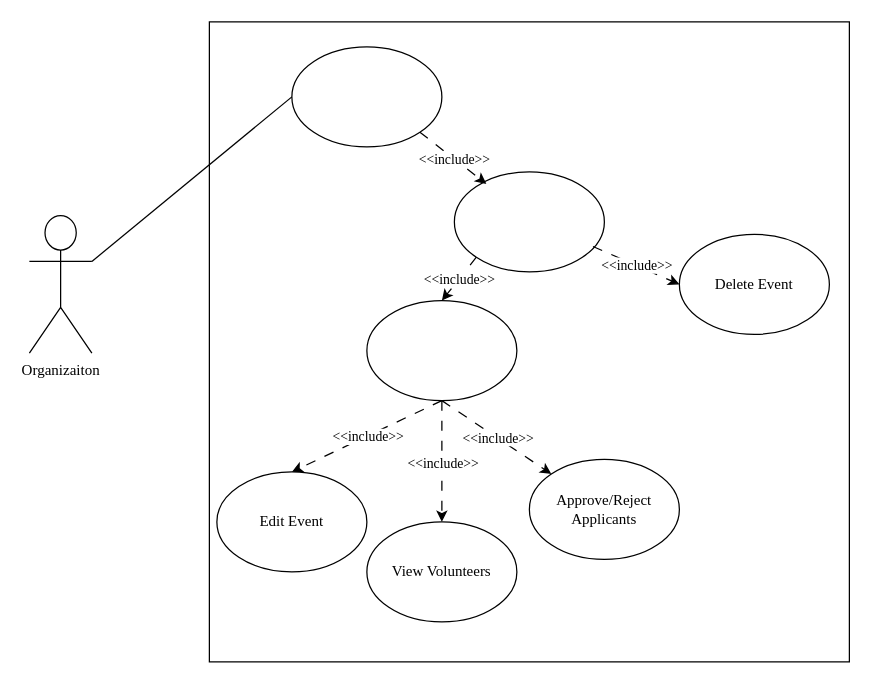
The diagram is 871 pixels wide and 684 high, and some of its shapes have lost their labels. Here are the shapes that lost their labels. From the top down, the box of each, then its label:
(291, 46, 442, 147): Manage Event
(453, 171, 604, 272): Event Lists
(366, 299, 517, 401): View Event
